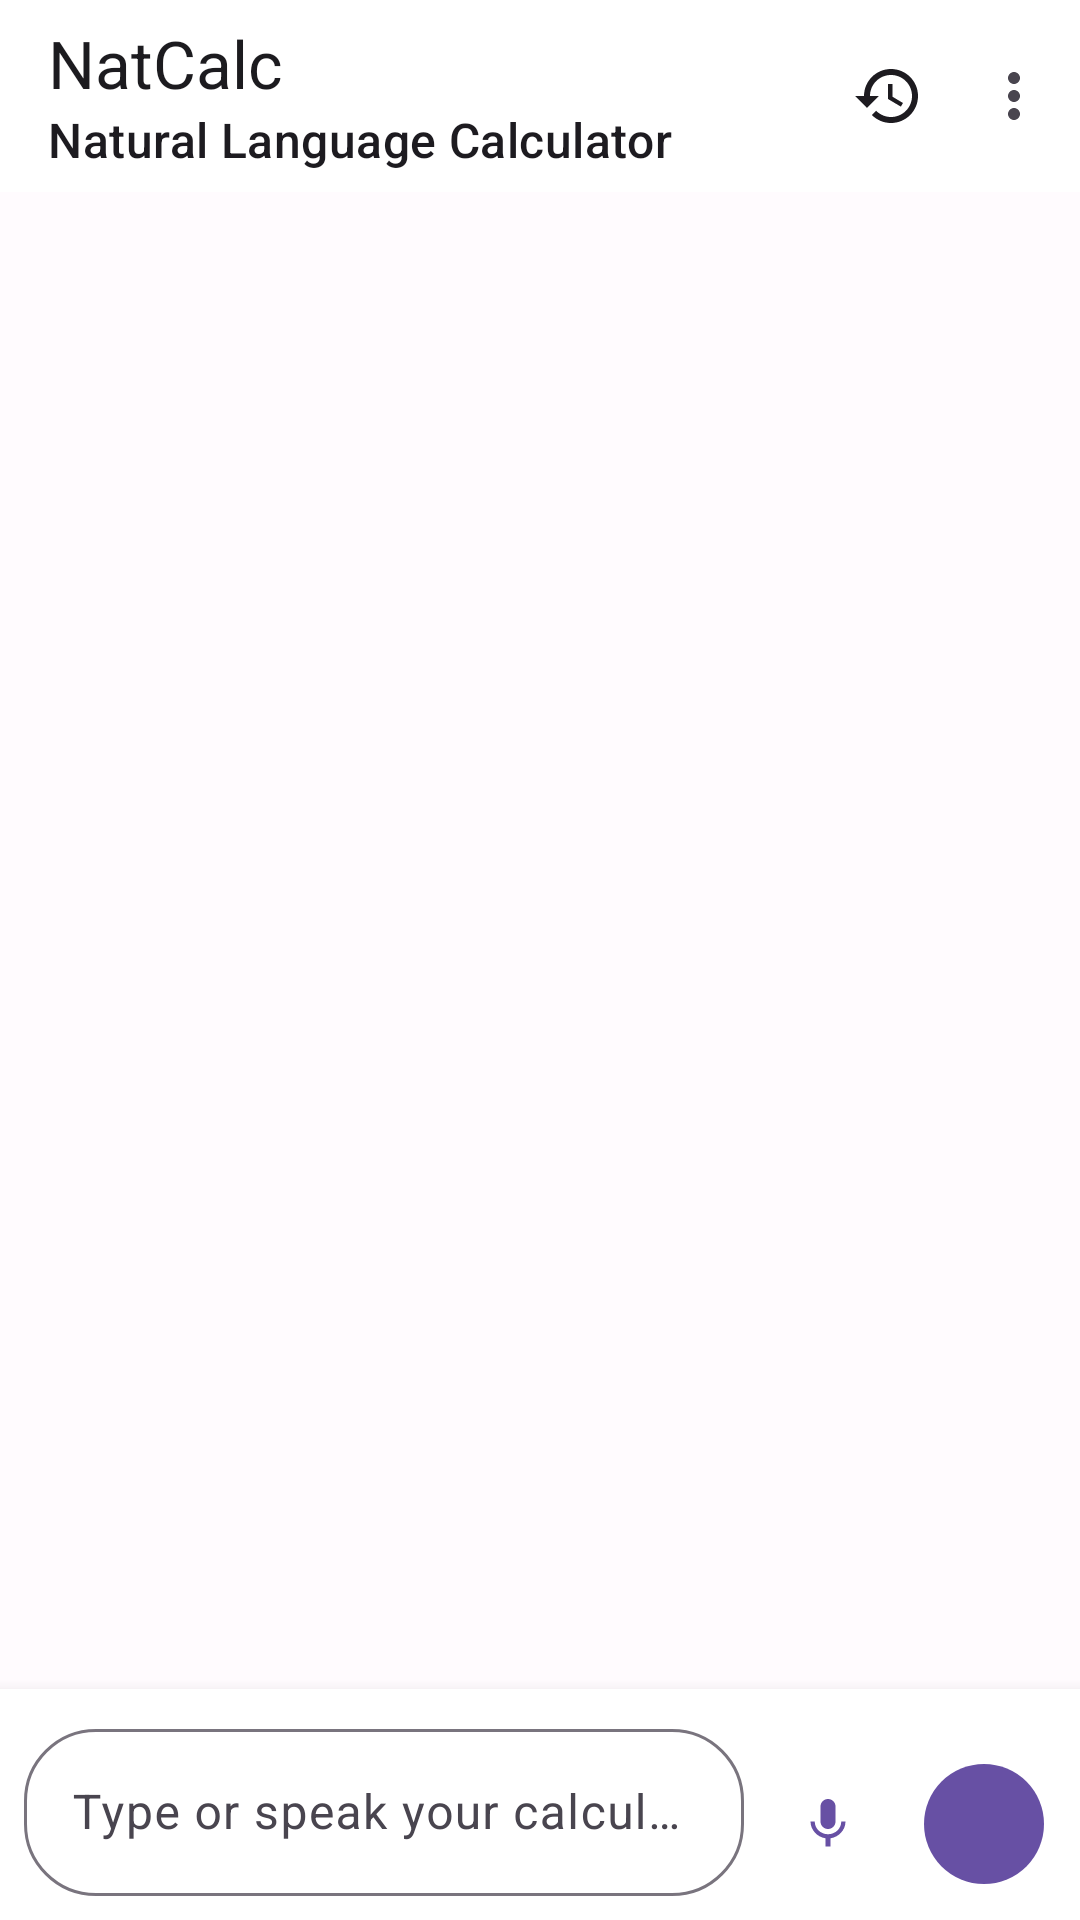

Where to tap for icons on this 1080 × 1920 app screen, as [x,y]:
mic: [828,1823]
